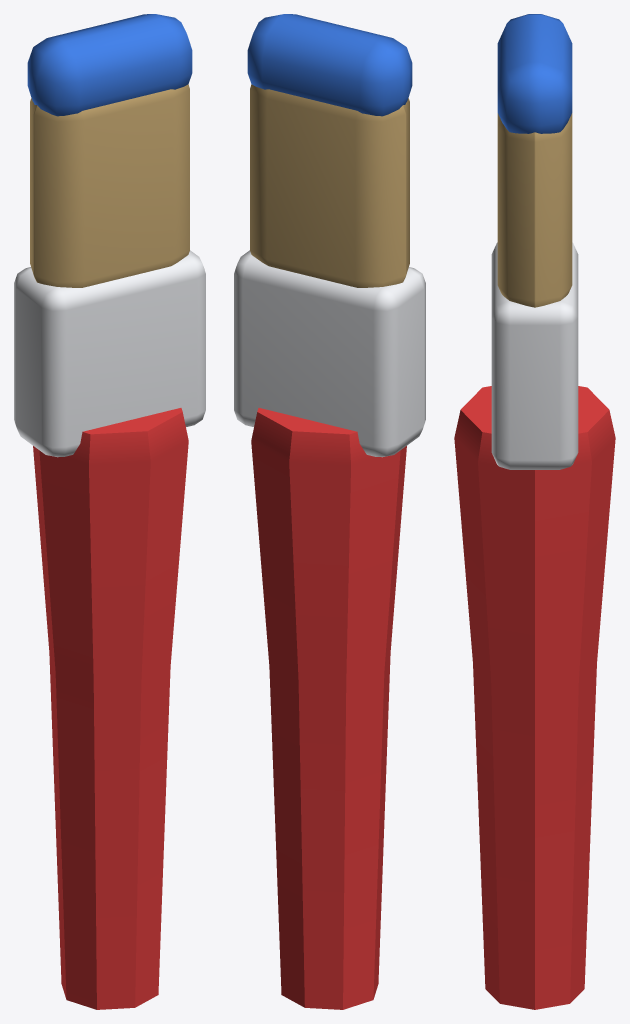
The model's file is Paintbrush.fbx.
3 views of the same model, side by side, from view 1: azimuth 30°, elevation 25°; view 2: azimuth 150°, elevation 25°; view 3: azimuth 270°, elevation 25° (orthographic).
Visible parts, largest first — view 1: Paintbrush; view 2: Paintbrush; view 3: Paintbrush.
Part boxes in pixels (<box>): Paintbrush: <box>14,14,205,1009</box>; Paintbrush: <box>234,14,425,1009</box>; Paintbrush: <box>454,14,615,1009</box>.
Bounding box in the file's own units: 0.3 × 1.71 × 0.26.
Materials: 1 (1 with a texture image).
